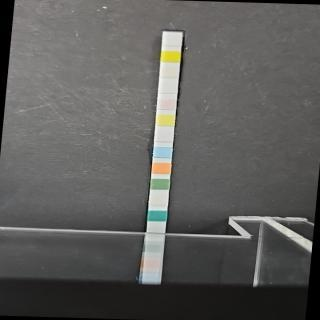mark: (150, 177, 170, 191), (160, 66, 178, 80), (158, 97, 176, 111), (162, 35, 182, 47), (160, 51, 180, 63), (158, 82, 178, 94), (155, 130, 174, 142), (152, 162, 171, 174), (148, 210, 167, 222), (156, 114, 174, 126), (154, 146, 172, 158), (150, 194, 168, 206)
